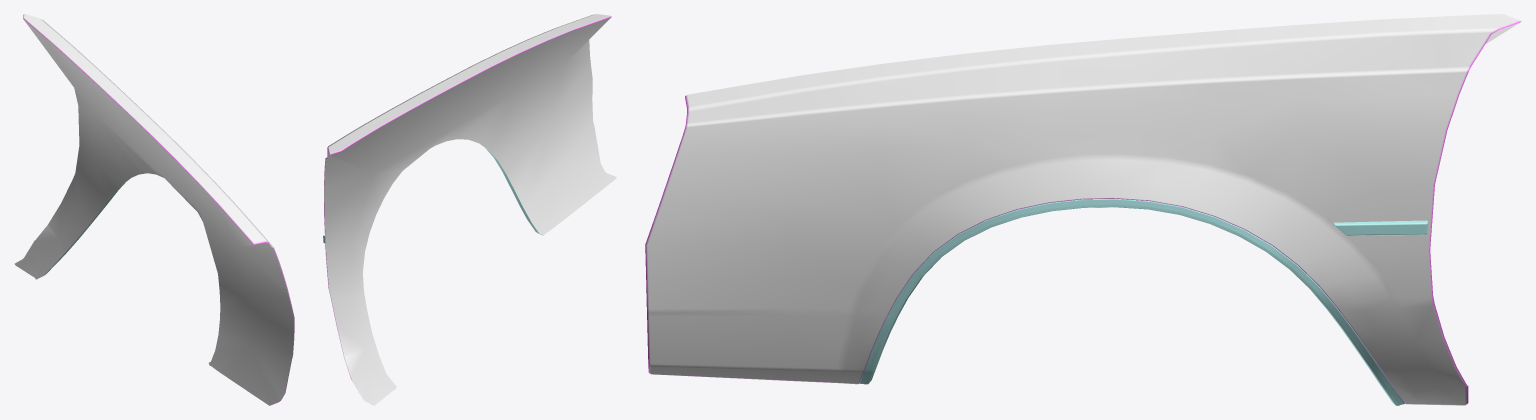
The model's file is Car_Buick_GrandNational_1987_FenderFL_SetE.fbx.
3 renders of one model, left to right at view 1: azimuth 30°, elevation 25°; view 2: azimuth 150°, elevation 25°; view 3: azimuth 270°, elevation 25°, orthographic. The views are drawn at different scales.
Parts seen in each view (by area): view 1: FenderFL 6; view 2: FenderFL 6; view 3: FenderFL 6.
Part boxes in pixels (x1,y1,x2,y2): FenderFL 6: (14,14,294,405); FenderFL 6: (323,14,616,405); FenderFL 6: (645,14,1521,405).
Size of the model in its own units: 0.2035 by 0.7254 by 1.42.
